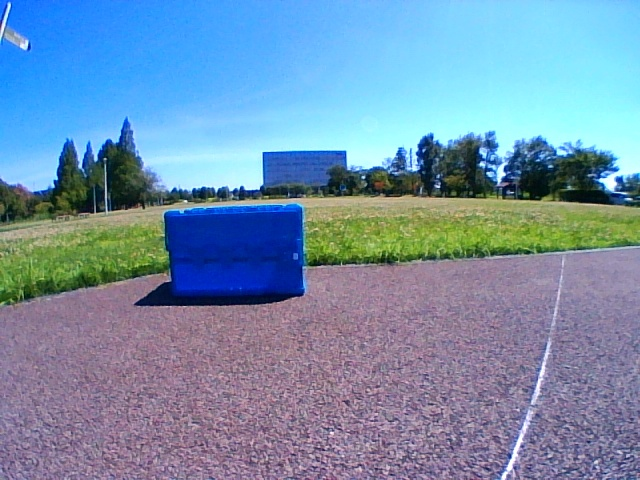blue_box: (164, 204, 305, 295)
